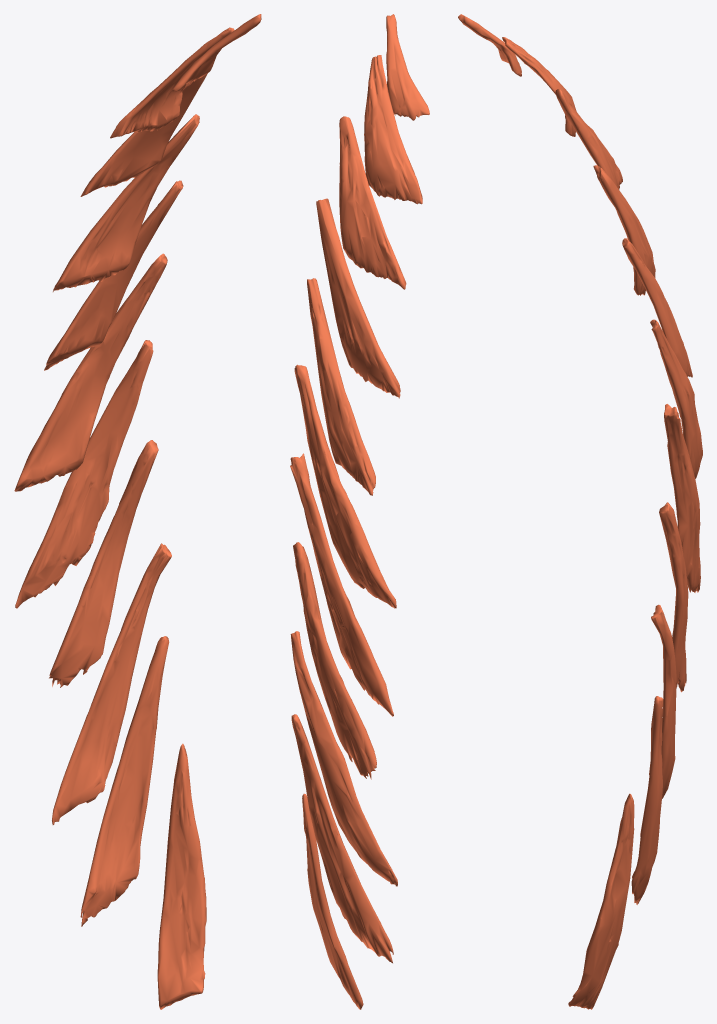
The model's file is Levatores_longi_costarum.r_Generated_Mesh_From_X3D.384.glb.
The picture shows the model from 3 angles, left to right: view 1: azimuth 30°, elevation 25°; view 2: azimuth 150°, elevation 25°; view 3: azimuth 270°, elevation 25°; orthographic projection. The views are drawn at different scales.
Visible parts, largest first — view 1: Levatores_longi_costarum.r_Generated_Mesh_From_X3D.384; view 2: Levatores_longi_costarum.r_Generated_Mesh_From_X3D.384; view 3: Levatores_longi_costarum.r_Generated_Mesh_From_X3D.384.
Boxes of the visible parts, x1,y1,x2,y2 form: Levatores_longi_costarum.r_Generated_Mesh_From_X3D.384: [14, 14, 261, 1009]; Levatores_longi_costarum.r_Generated_Mesh_From_X3D.384: [290, 14, 429, 1009]; Levatores_longi_costarum.r_Generated_Mesh_From_X3D.384: [458, 14, 702, 1009].
Bounding box in the file's own units: 0.0472 × 0.3298 × 0.0725.
